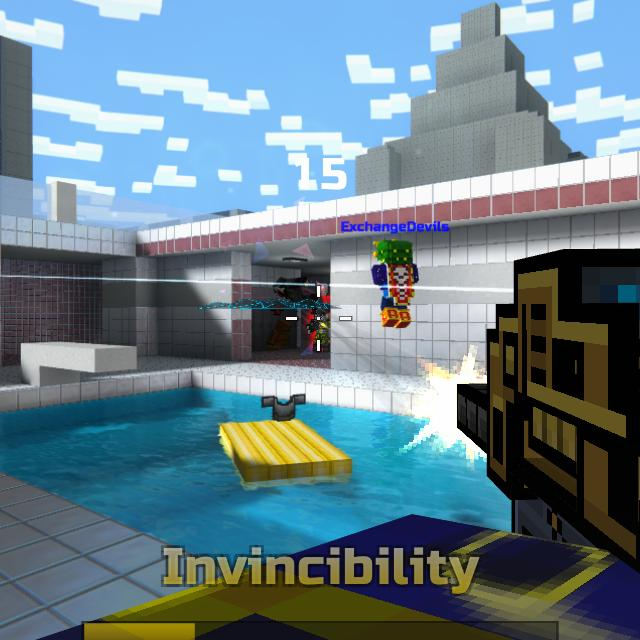Enemy: (306, 309, 331, 353)
